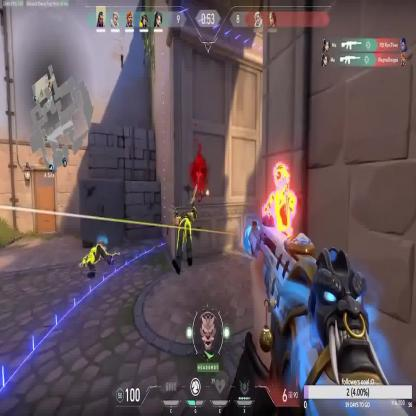enemy: (260, 162, 296, 336)
enemy_head: (272, 165, 290, 193)
